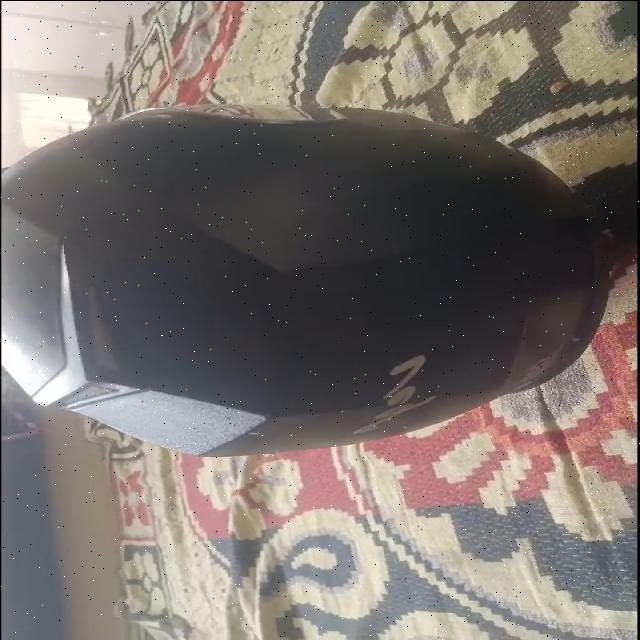Helmet: (4, 104, 605, 455)
